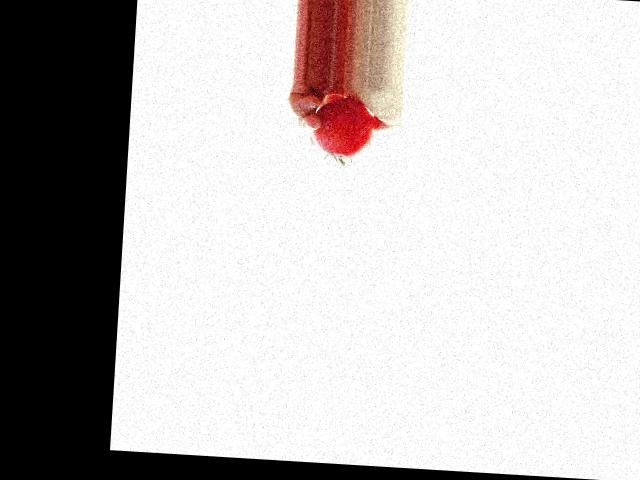tomato: (308, 96, 375, 161)
